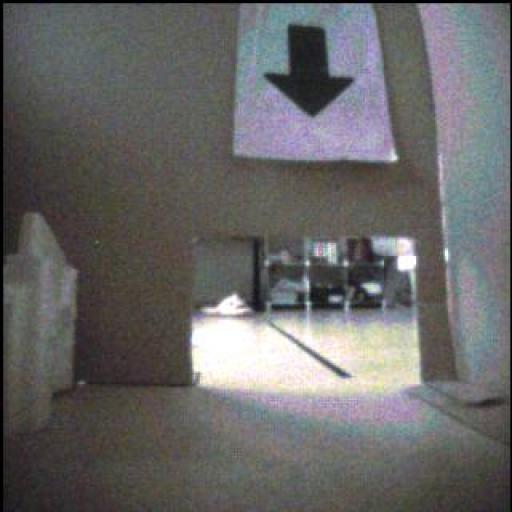arrow: (267, 25, 355, 118)
